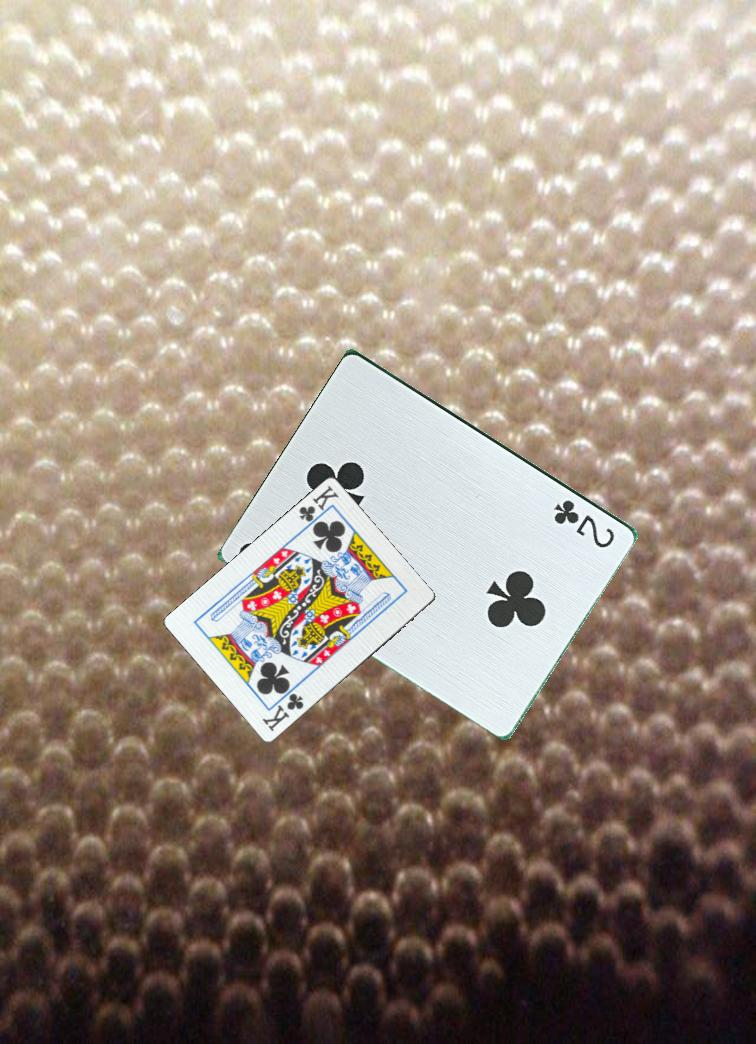2c: (551, 495, 619, 551)
kc: (259, 689, 307, 738), (294, 482, 341, 526)
